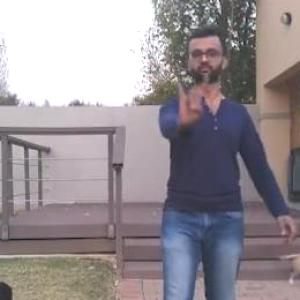takeoff-hand: (170, 74, 208, 129)
